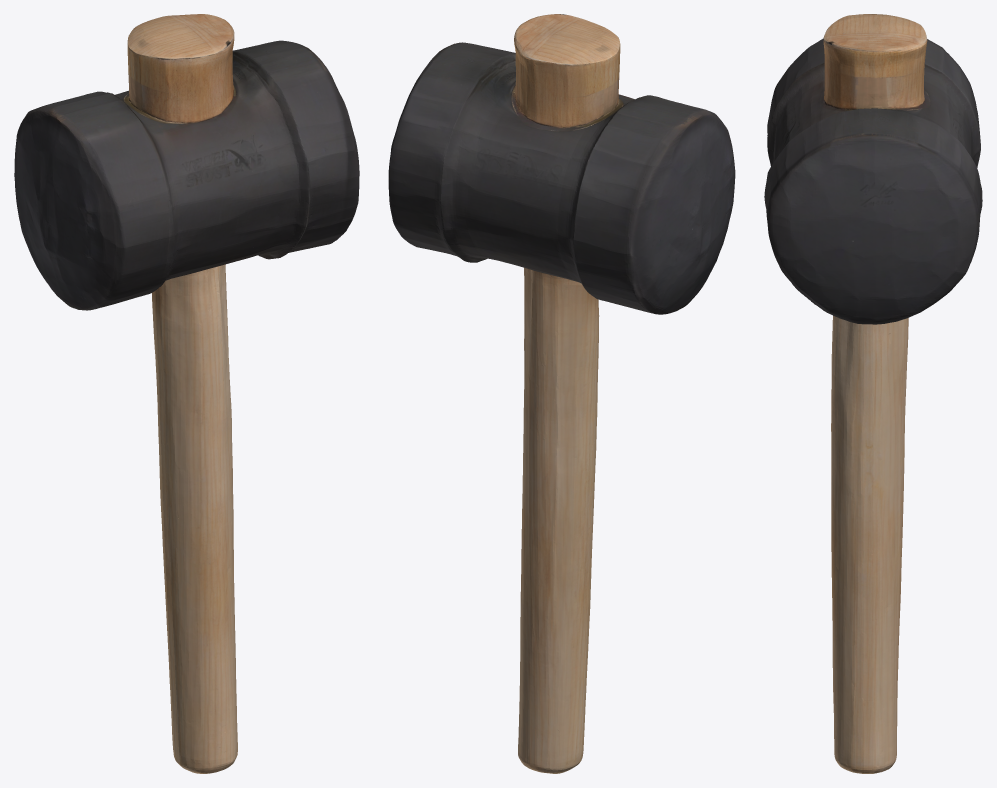
File: marreta_de_bocharra.glb
3 renders of one model, left to right at view 1: azimuth 30°, elevation 25°; view 2: azimuth 150°, elevation 25°; view 3: azimuth 270°, elevation 25°, orthographic.
Visible parts, largest first — view 1: Object_3, Object_4, Object_2, Object_5; view 2: Object_3, Object_4, Object_2, Object_5; view 3: Object_4, Object_3, Object_2, Object_5.
Part boxes in pixels (x1,y1,x2,y2): Object_3: (14, 14, 359, 773); Object_4: (14, 14, 359, 773); Object_2: (14, 14, 359, 773); Object_5: (14, 14, 359, 773); Object_3: (388, 14, 735, 773); Object_4: (388, 14, 735, 773); Object_2: (388, 14, 735, 773); Object_5: (388, 14, 735, 773); Object_4: (764, 14, 982, 773); Object_3: (765, 14, 982, 773); Object_2: (765, 14, 982, 773); Object_5: (764, 14, 981, 773).
Bounding box in the file's own units: 0.7926 × 1.99 × 0.54.
1 material, 1 textured.
